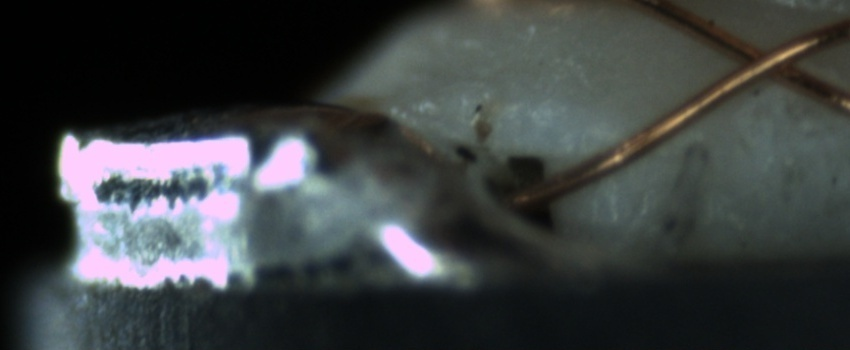CL: (717, 26, 820, 94)
